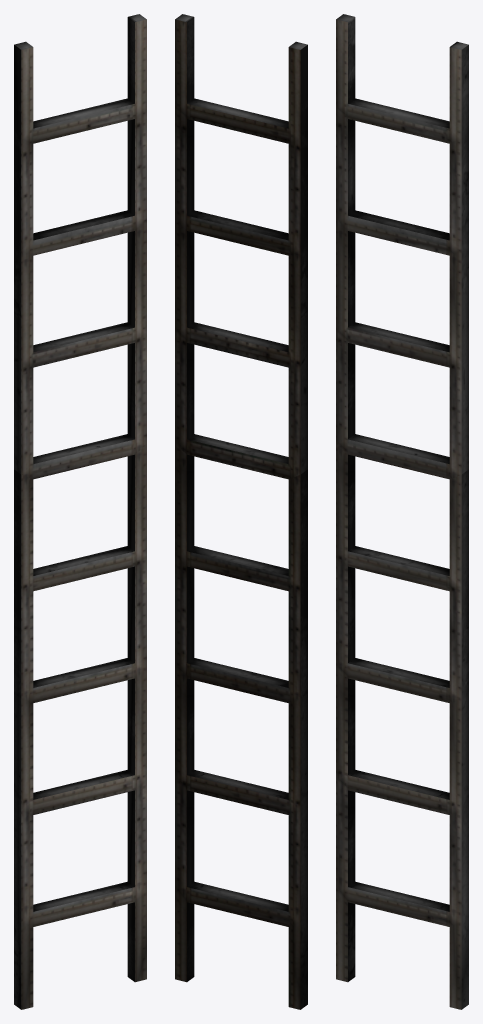
Rendered from Ladder.fbx.
3 views of the same model, side by side, from view 1: azimuth 30°, elevation 25°; view 2: azimuth 150°, elevation 25°; view 3: azimuth 330°, elevation 25° (orthographic).
Visible parts, largest first — view 1: Ladder; view 2: Ladder; view 3: Ladder.
Boxes of the visible parts, x1,y1,x2,y2 form: Ladder: [14, 14, 146, 1009]; Ladder: [175, 14, 307, 1009]; Ladder: [336, 14, 468, 1009].
Bounding box in the file's own units: 0.8869 × 6.49 × 0.0901.
